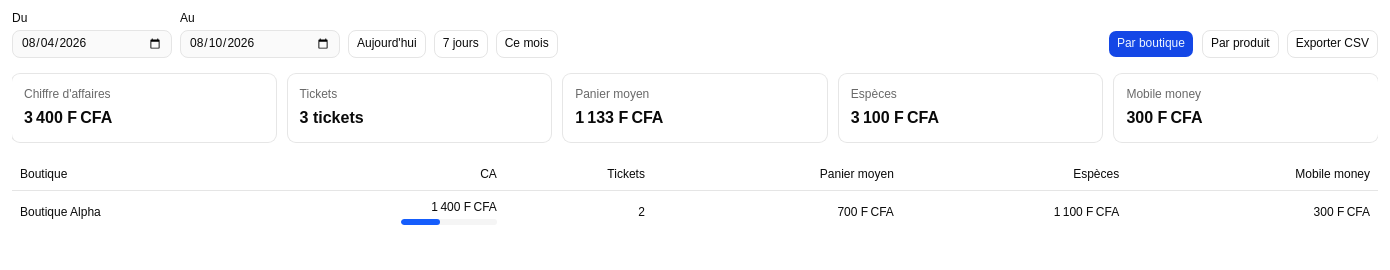
it: RapportVentes › affiche l'erreur d'export sans casser l'écran
This screenshot has width=1390, height=270.
Check: the text "Boutique Alpha" is shown, box [12, 190, 280, 232]
Click the button "Exporter CSV".
click(1332, 44)  # box [1287, 30, 1378, 58]
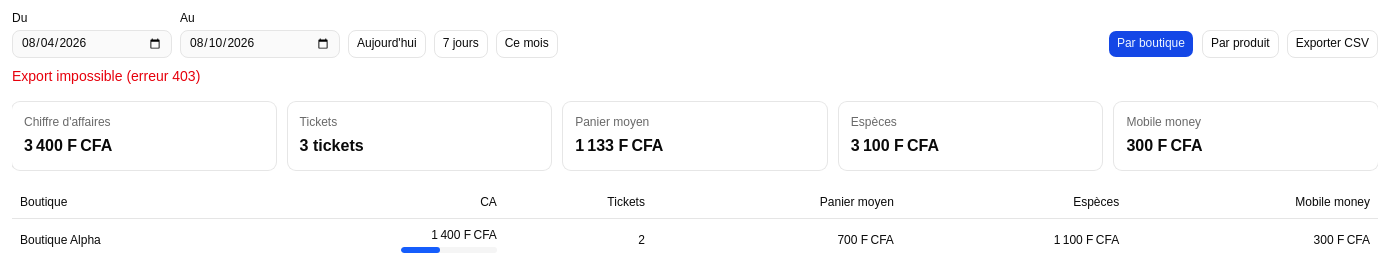
Check: the text "Export impossible (erreur 403)" is shown, box [12, 68, 200, 84]
